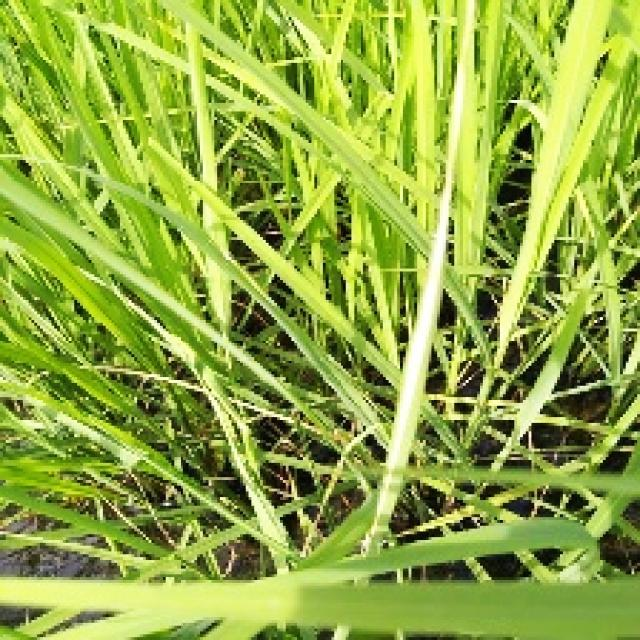health: (7, 3, 225, 434)
